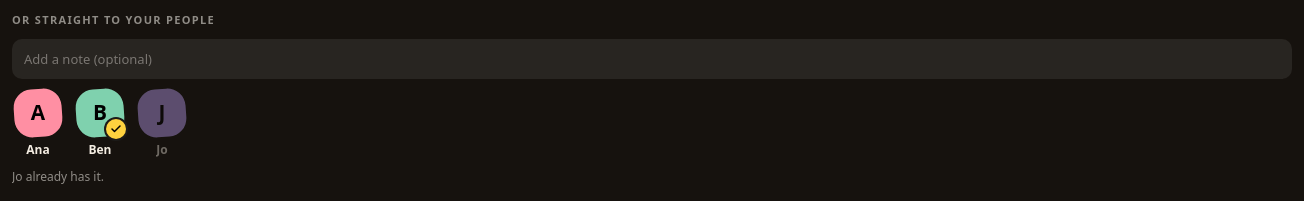
Test: Or straight to your people › shows a face per member, dims who has it, and sends with the note on a tap
Expected: the button with aria-label "Jo already has it" is disabled, [136,88,188,158]
Expected: the button with aria-label "Sent to Ben" is disabled, [74,88,126,158]
Type "you need this" into the field named "A note with it (optional)" at [652, 58], box [12,38,1292,78]
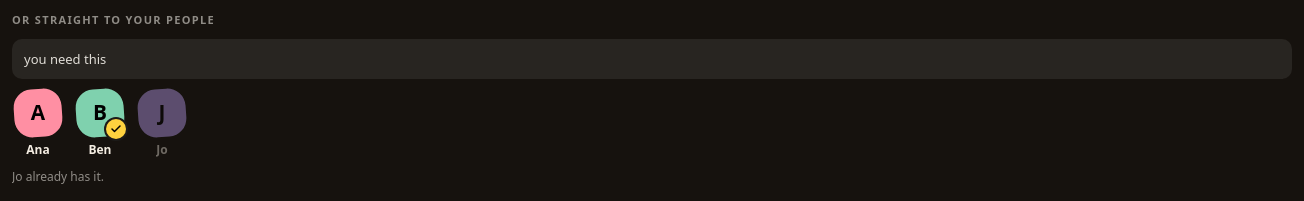
Click the button with aria-label "Send to Ana" at [38, 124], box [12,88,64,158]
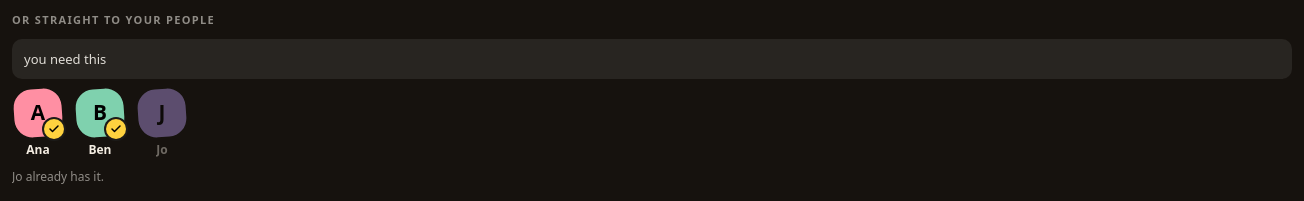
Expected: the button with aria-label "Sent to Ana" is shown, [12,88,64,158]
